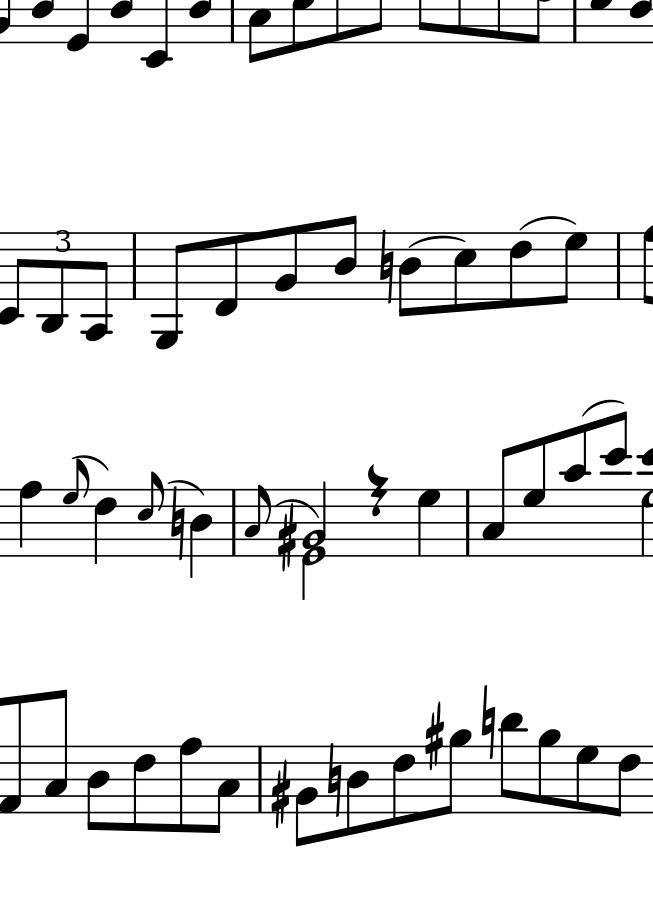2_0_2: (300, 480, 327, 600)
3: (55, 228, 71, 255)
4_4: (188, 487, 216, 579)
8_-1: (211, 231, 242, 318)
8_-2: (1, 228, 29, 329)
8_-3: (38, 229, 68, 333)
8_-4: (80, 230, 112, 343)
8_-5: (150, 229, 186, 351)
8_1: (1, 694, 23, 819)
8_10: (561, 424, 588, 559)
8_11: (499, 709, 525, 816)
8_12: (602, 409, 631, 559)
8_2: (292, 740, 320, 847), (272, 224, 300, 302)
8_3: (480, 446, 515, 558), (42, 687, 70, 815), (211, 741, 242, 839)
8_4: (331, 212, 359, 302), (396, 231, 423, 320), (84, 743, 110, 834), (345, 743, 369, 838)
8_5: (453, 231, 477, 313)
8_6: (129, 743, 157, 835), (609, 746, 642, 818), (392, 745, 418, 827), (506, 231, 532, 311), (94, 488, 119, 568)
8_7: (521, 436, 547, 561), (555, 230, 587, 307), (573, 742, 599, 819), (416, 488, 440, 556)
8_8: (175, 734, 202, 836), (17, 480, 44, 561)
8_9: (439, 726, 473, 817), (535, 725, 562, 818)
Natural: (378, 223, 397, 306), (478, 680, 496, 763), (325, 737, 343, 817), (168, 485, 186, 562)
Rests4: (366, 464, 390, 518)
Sharp: (269, 757, 292, 833), (277, 500, 297, 575), (423, 700, 443, 770)
Single_barline: (225, 489, 242, 555), (611, 232, 627, 299), (126, 234, 142, 300), (252, 745, 267, 813), (460, 491, 476, 554)
Slur: (519, 212, 578, 230), (410, 236, 463, 248), (584, 399, 619, 417), (71, 454, 108, 471), (167, 480, 204, 496)
